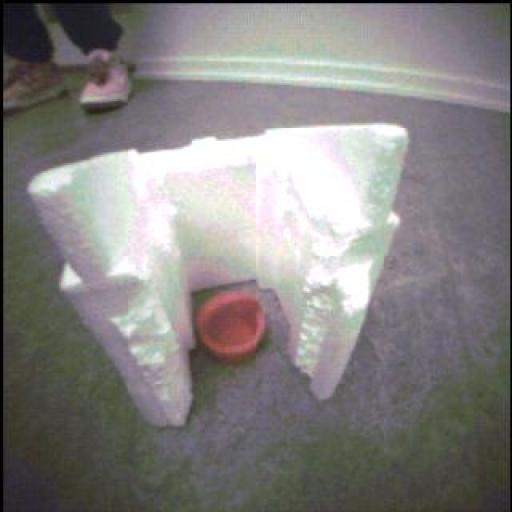Bucket: (195, 291, 269, 370)
